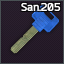Health Resort east wing room 205 key: (0, 0, 64, 64)
